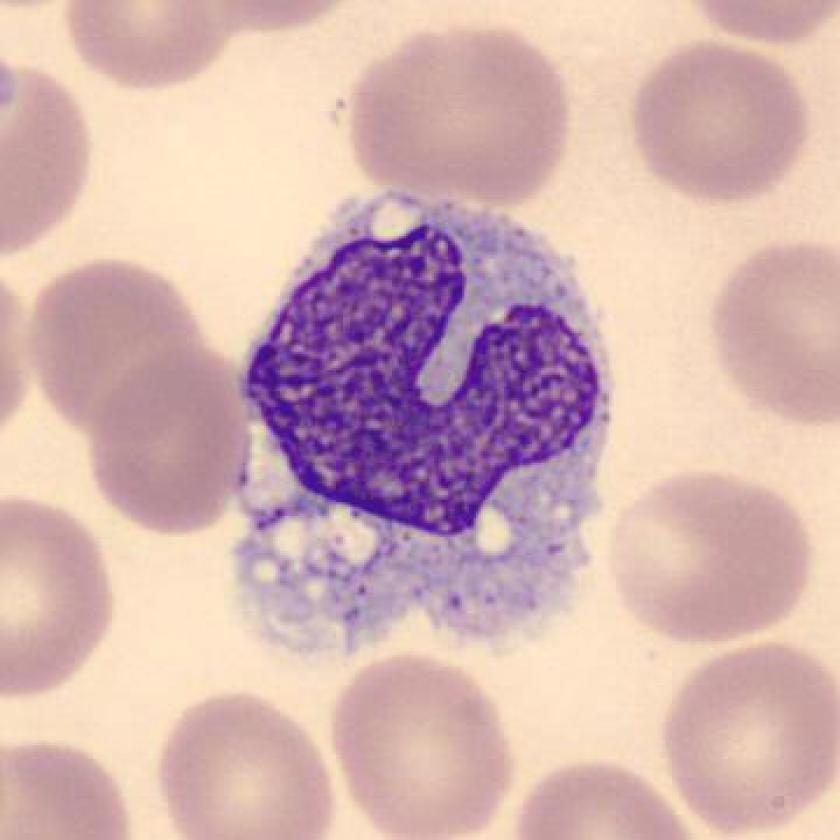monocyte: (216, 177, 633, 690)
